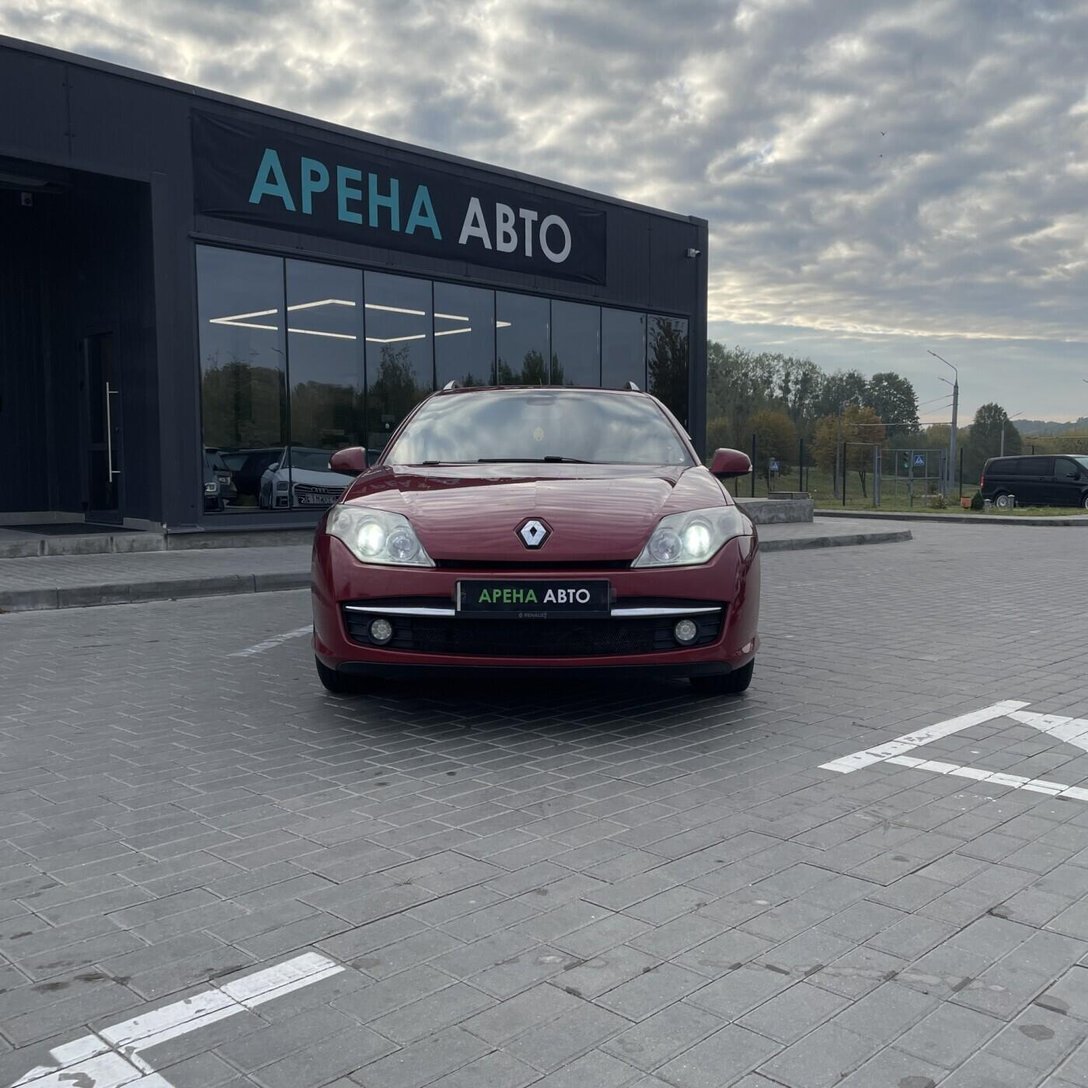Laguna_2007-2011: (312, 382, 758, 694)
